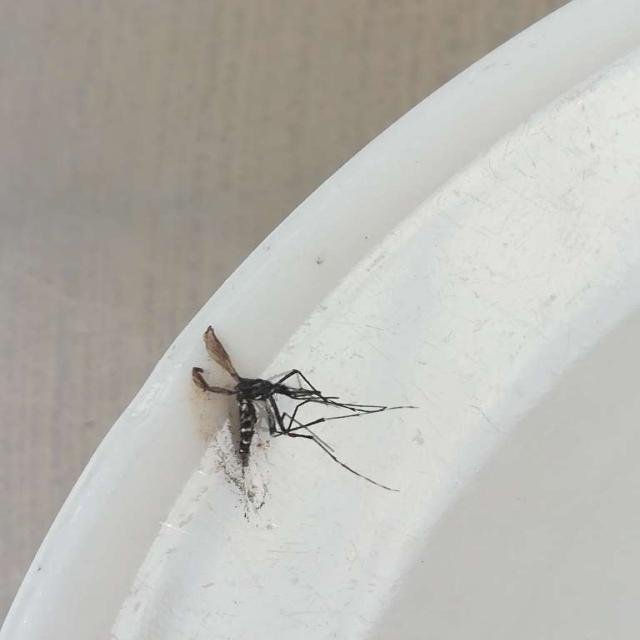albopictus: (185, 322, 409, 510)
